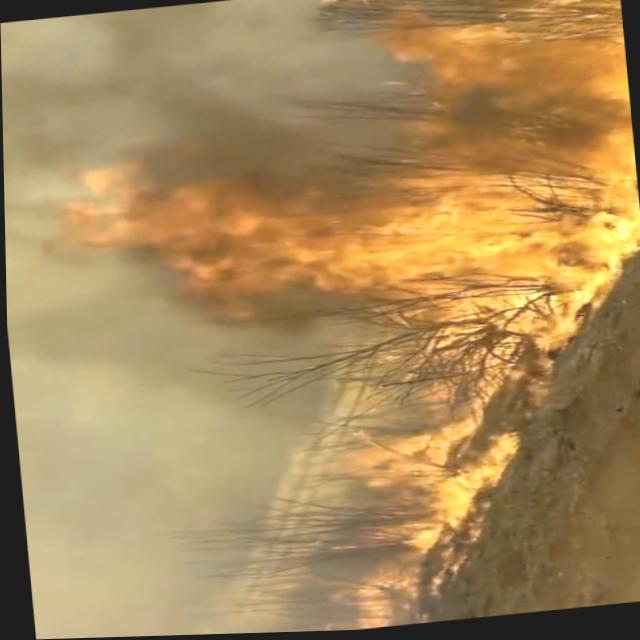fire: (63, 119, 640, 380), (365, 0, 631, 151)
